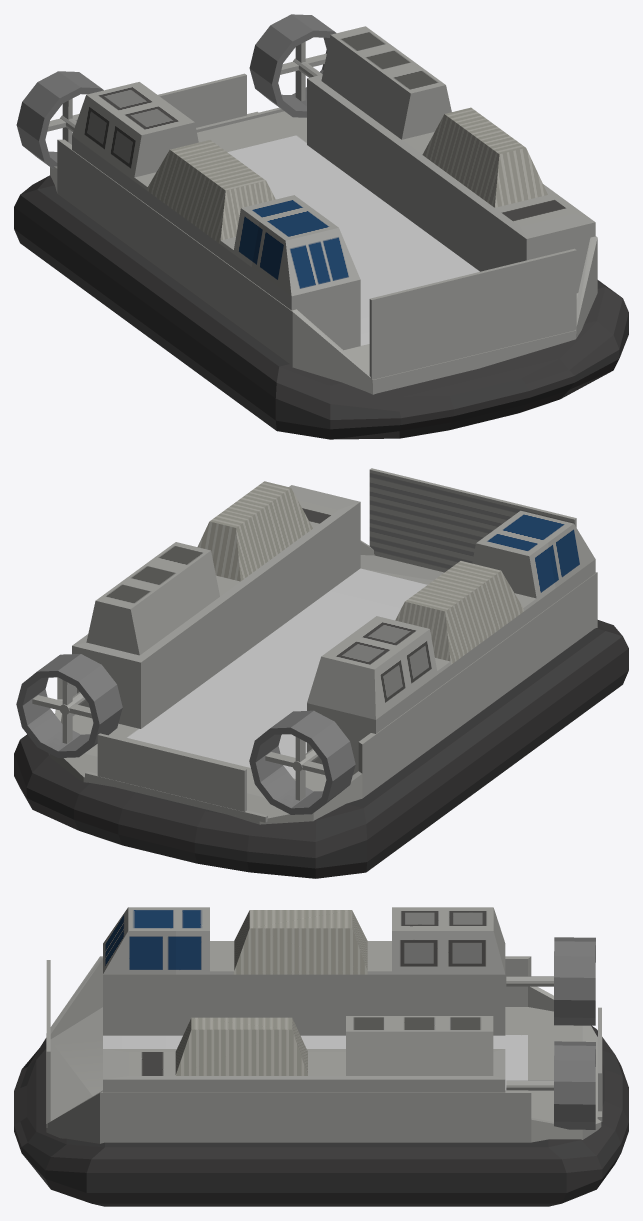
Rendered from HoverCraft.fbx.
3 renders of one model, top to bottom at view 1: azimuth 30°, elevation 25°; view 2: azimuth 150°, elevation 25°; view 3: azimuth 270°, elevation 25°, orthographic. The views are drawn at different scales.
Parts seen in each view (by area): view 1: HoverCraft_UpperBody, HoverCraft_LowerBody, HoverCraft_Door, HoverCraft_LeftWingBody, HoverCraft_RightWingBody, HoverCraft_LeftPropeller, HoverCraft_RightPropeller; view 2: HoverCraft_UpperBody, HoverCraft_LowerBody, HoverCraft_Door, HoverCraft_RightWingBody, HoverCraft_LeftWingBody, HoverCraft_LeftPropeller, HoverCraft_RightPropeller; view 3: HoverCraft_UpperBody, HoverCraft_LowerBody, HoverCraft_RightWingBody, HoverCraft_LeftWingBody, HoverCraft_Door, HoverCraft_LeftPropeller, HoverCraft_RightPropeller.
Part boxes in pixels (x1,y1,x2,y2): HoverCraft_UpperBody: (50, 26, 597, 394); HoverCraft_LowerBody: (14, 175, 628, 439); HoverCraft_Door: (369, 248, 576, 383); HoverCraft_LeftWingBody: (249, 14, 336, 117); HoverCraft_RightWingBody: (16, 71, 103, 169); HoverCraft_LeftPropeller: (280, 41, 326, 101); HoverCraft_RightPropeller: (47, 98, 79, 144); HoverCraft_UpperBody: (50, 481, 597, 824); HoverCraft_LowerBody: (14, 620, 628, 878); HoverCraft_Door: (369, 468, 576, 571); HoverCraft_RightWingBody: (249, 710, 355, 814); HoverCraft_LeftWingBody: (16, 654, 122, 757); HoverCraft_LeftPropeller: (32, 680, 91, 743); HoverCraft_RightPropeller: (265, 737, 324, 800); HoverCraft_UpperBody: (46, 907, 602, 1143); HoverCraft_LowerBody: (14, 1025, 628, 1206); HoverCraft_RightWingBody: (554, 937, 595, 1025); HoverCraft_LeftWingBody: (554, 1041, 595, 1129); HoverCraft_Door: (46, 960, 50, 1127); HoverCraft_LeftPropeller: (506, 1080, 553, 1090); HoverCraft_RightPropeller: (506, 976, 553, 986).
Bounding box in the file's own units: 35.95 × 17.26 × 59.16.
